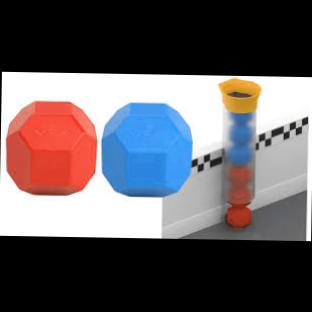V5_BLUE: (101, 102, 190, 196), (226, 145, 252, 165), (230, 124, 251, 144), (229, 112, 251, 124)
V5_RED: (5, 101, 96, 194), (226, 205, 249, 227), (228, 165, 249, 185), (228, 187, 248, 206)
